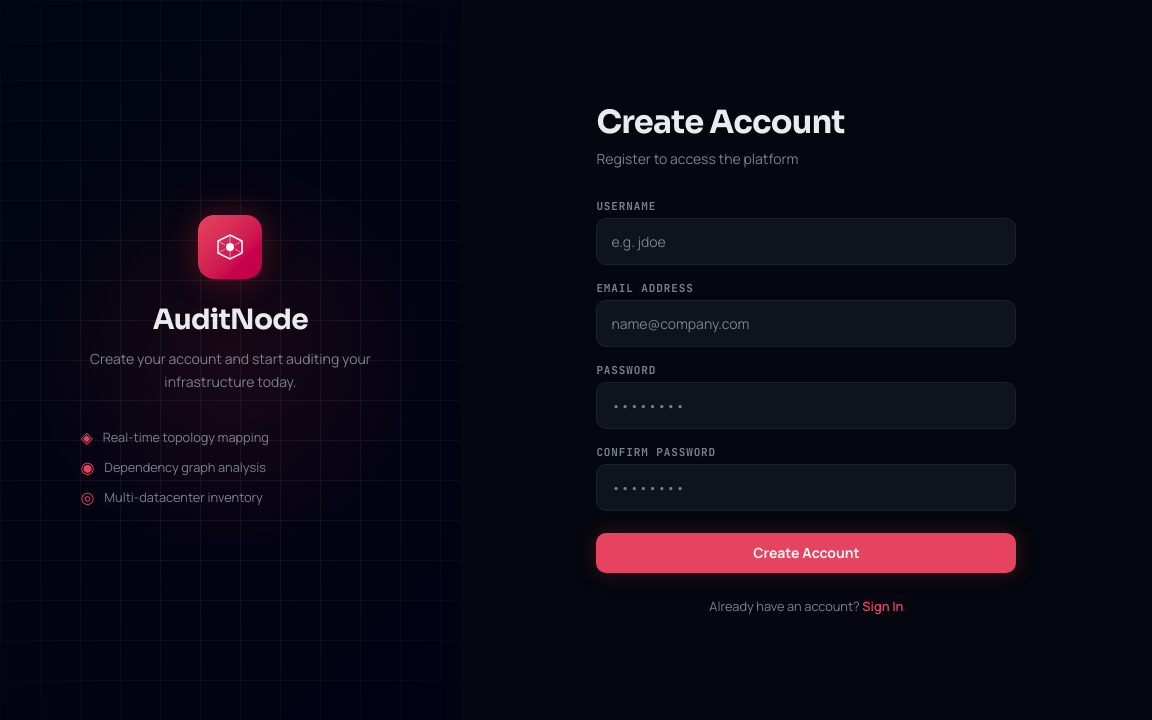
AuditNode authentication pages › shows a distinct safe message for duplicate registration
Type "existing" into the field labelled "Username" at coordinates (806, 242), box top-left (596, 218), bottom-right (1016, 265)
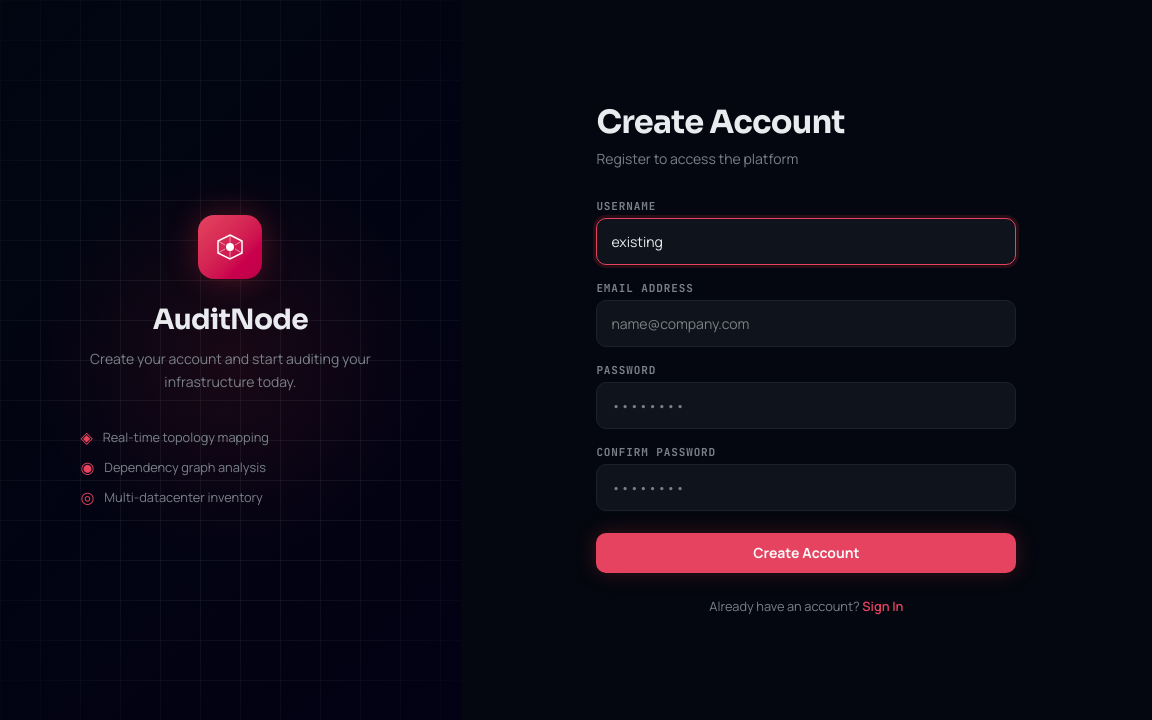
Type "existing@example.test" into the field labelled "Email Address" at coordinates (806, 324), box top-left (596, 300), bottom-right (1016, 347)
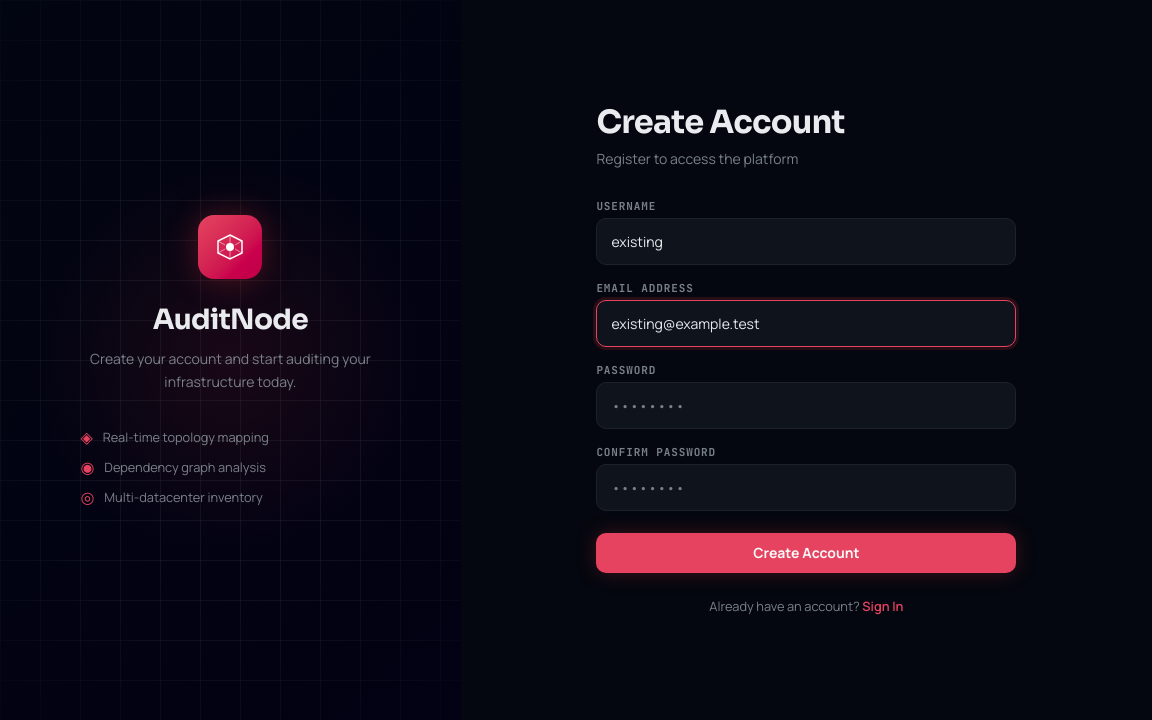
Type "password" into the password field labelled "Password" at coordinates (806, 406), box top-left (596, 382), bottom-right (1016, 429)
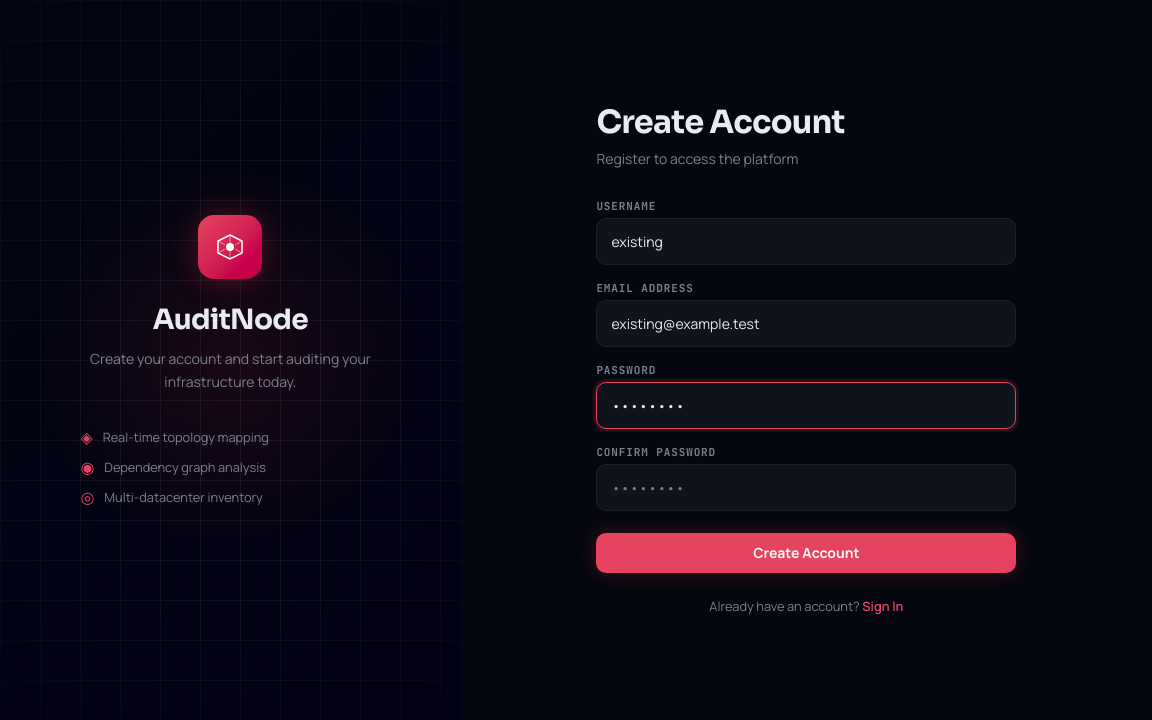
Type "password" into the password field labelled "Confirm Password" at coordinates (806, 488), box top-left (596, 464), bottom-right (1016, 511)
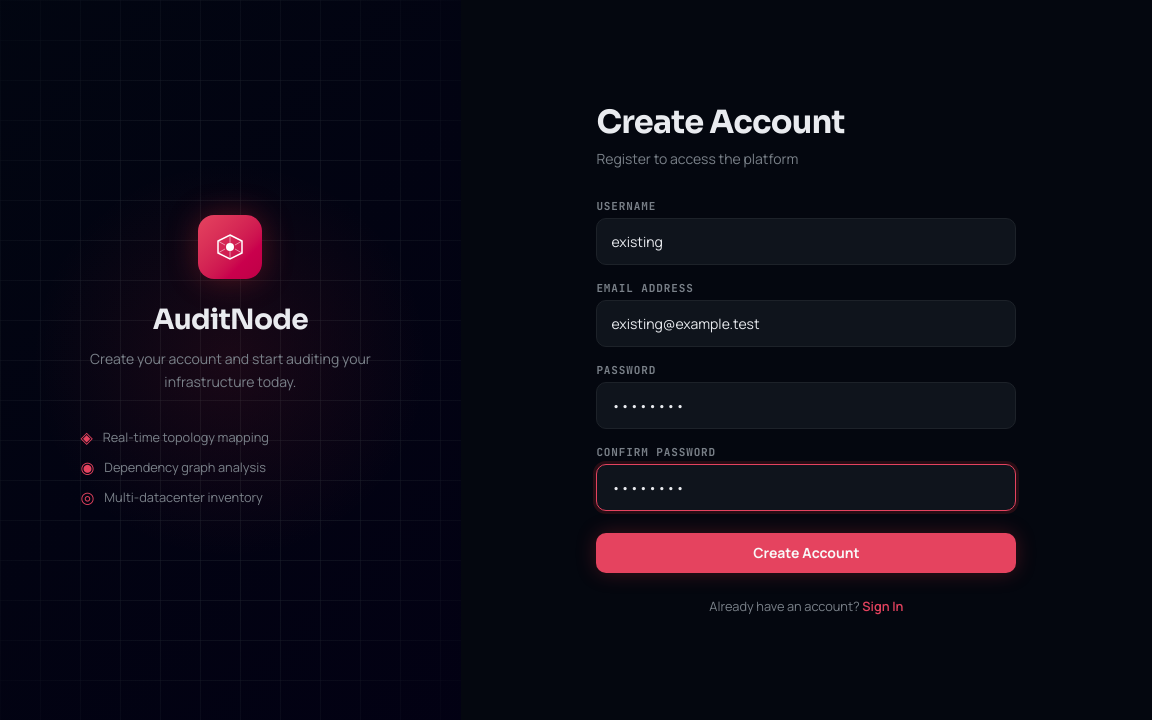
Click the button "Create Account" at coordinates (806, 553), box top-left (596, 533), bottom-right (1016, 573)
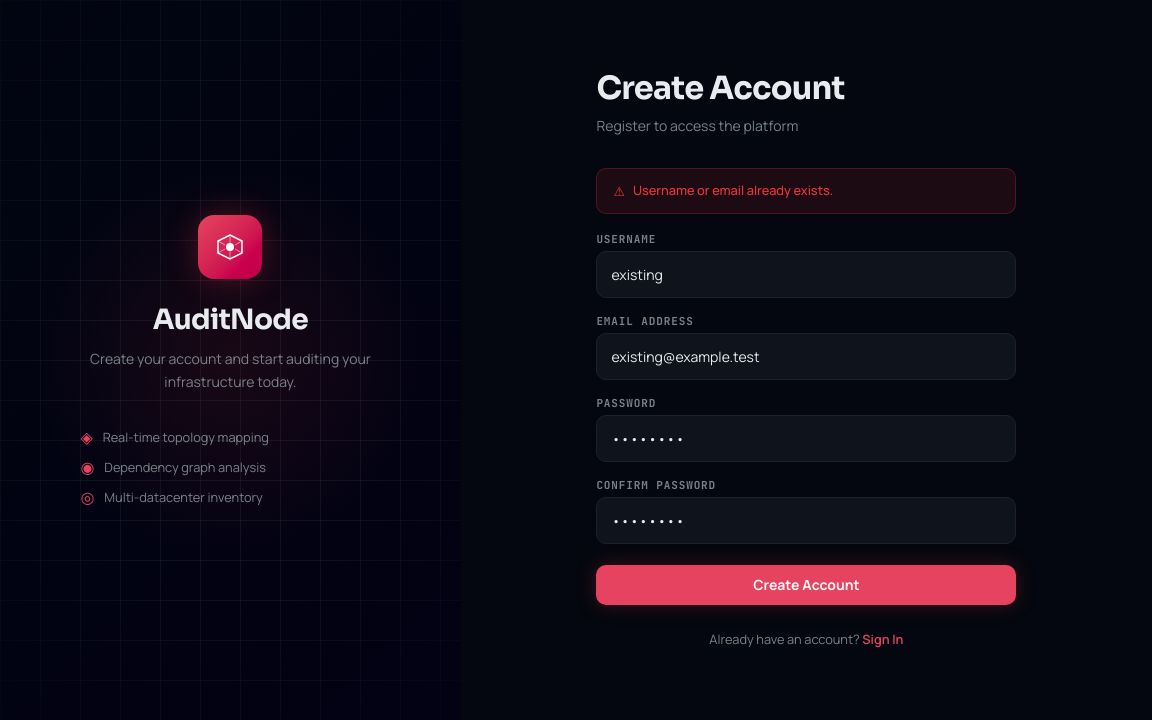
Check: the text "Username or email already exists." is shown, box top-left (633, 181), bottom-right (833, 200)
